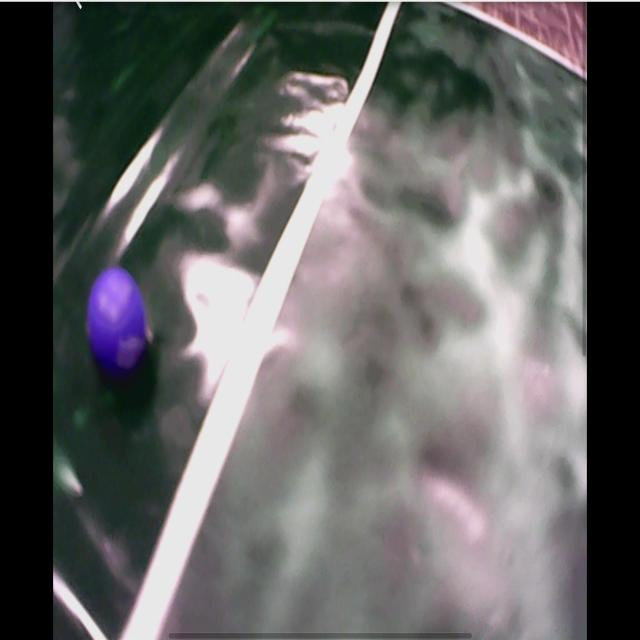ball: (87, 270, 148, 373)
